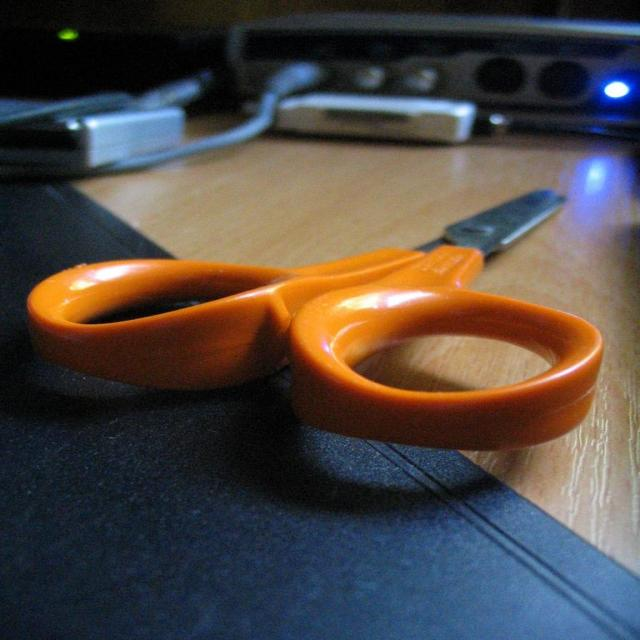scissor: (23, 188, 600, 451)
